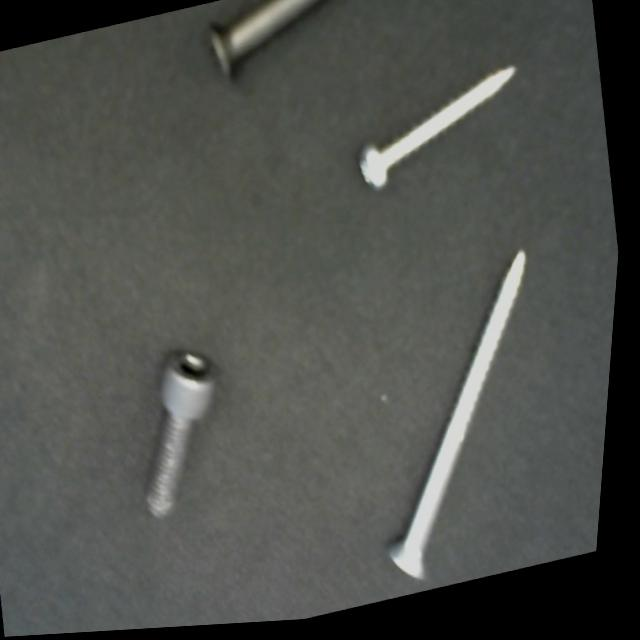FlatHeadSocketScrew: (190, 0, 405, 99)
SheetMetalScrew: (338, 57, 549, 210)
SocketHeadCapScrew: (110, 322, 261, 540)
WoodScrew: (336, 238, 590, 596)
